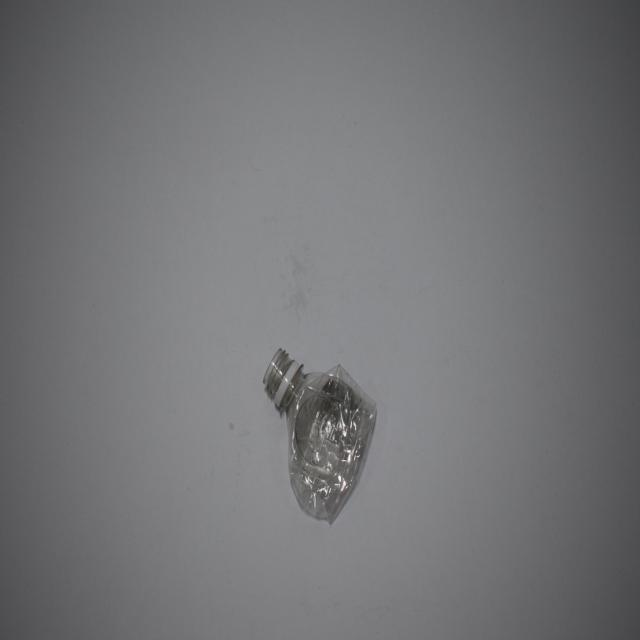bottle: (253, 340, 389, 537)
